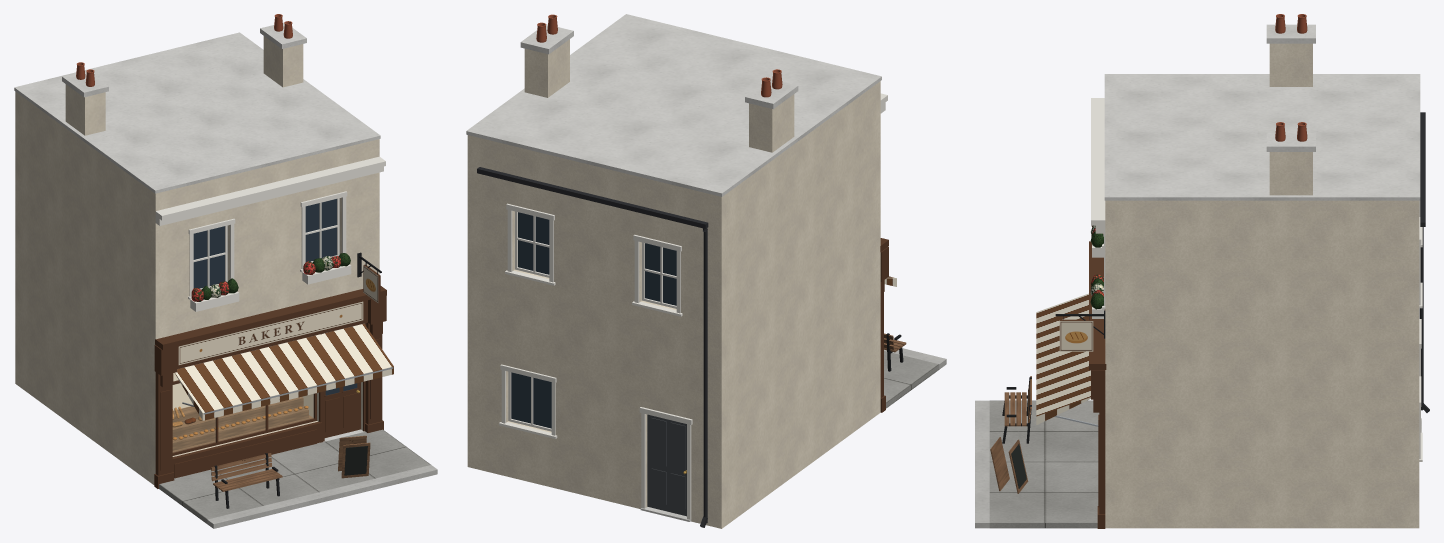
The model's file is bakery.glb.
3 views of the same model, side by side, from view 1: azimuth 30°, elevation 25°; view 2: azimuth 150°, elevation 25°; view 3: azimuth 270°, elevation 25° (orthographic). The views are drawn at different scales.
Parts seen in each view (by area): view 1: Bakery; view 2: Bakery; view 3: Bakery.
Boxes of the visible parts, bbox=[...] form: Bakery: bbox=[14, 14, 437, 528]; Bakery: bbox=[466, 14, 946, 528]; Bakery: bbox=[975, 14, 1429, 528].
Size of the model in its own units: 6.06 by 9.08 by 9.42.
35 materials, 17 textured.
